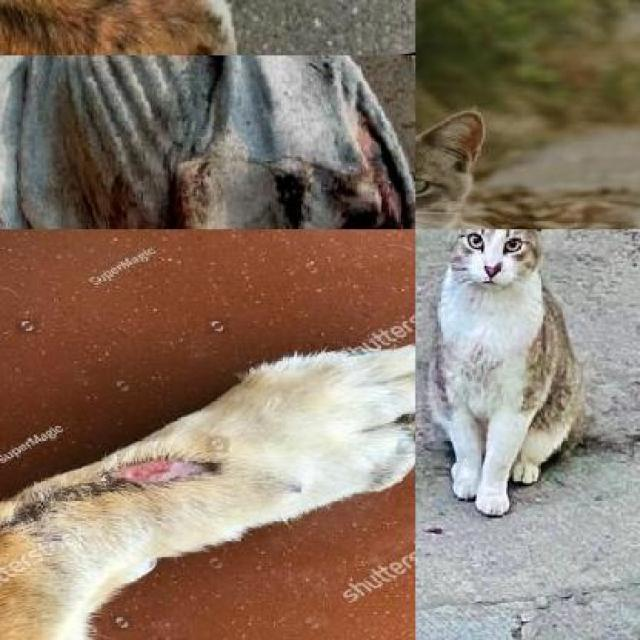cat: (425, 229, 606, 523), (415, 111, 574, 229)
cow: (0, 55, 415, 229)
dog: (0, 329, 409, 640), (0, 0, 415, 55)
injured: (60, 113, 415, 230), (2, 442, 267, 528)
